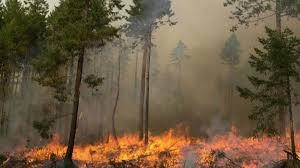fire: (46, 116, 291, 166)
